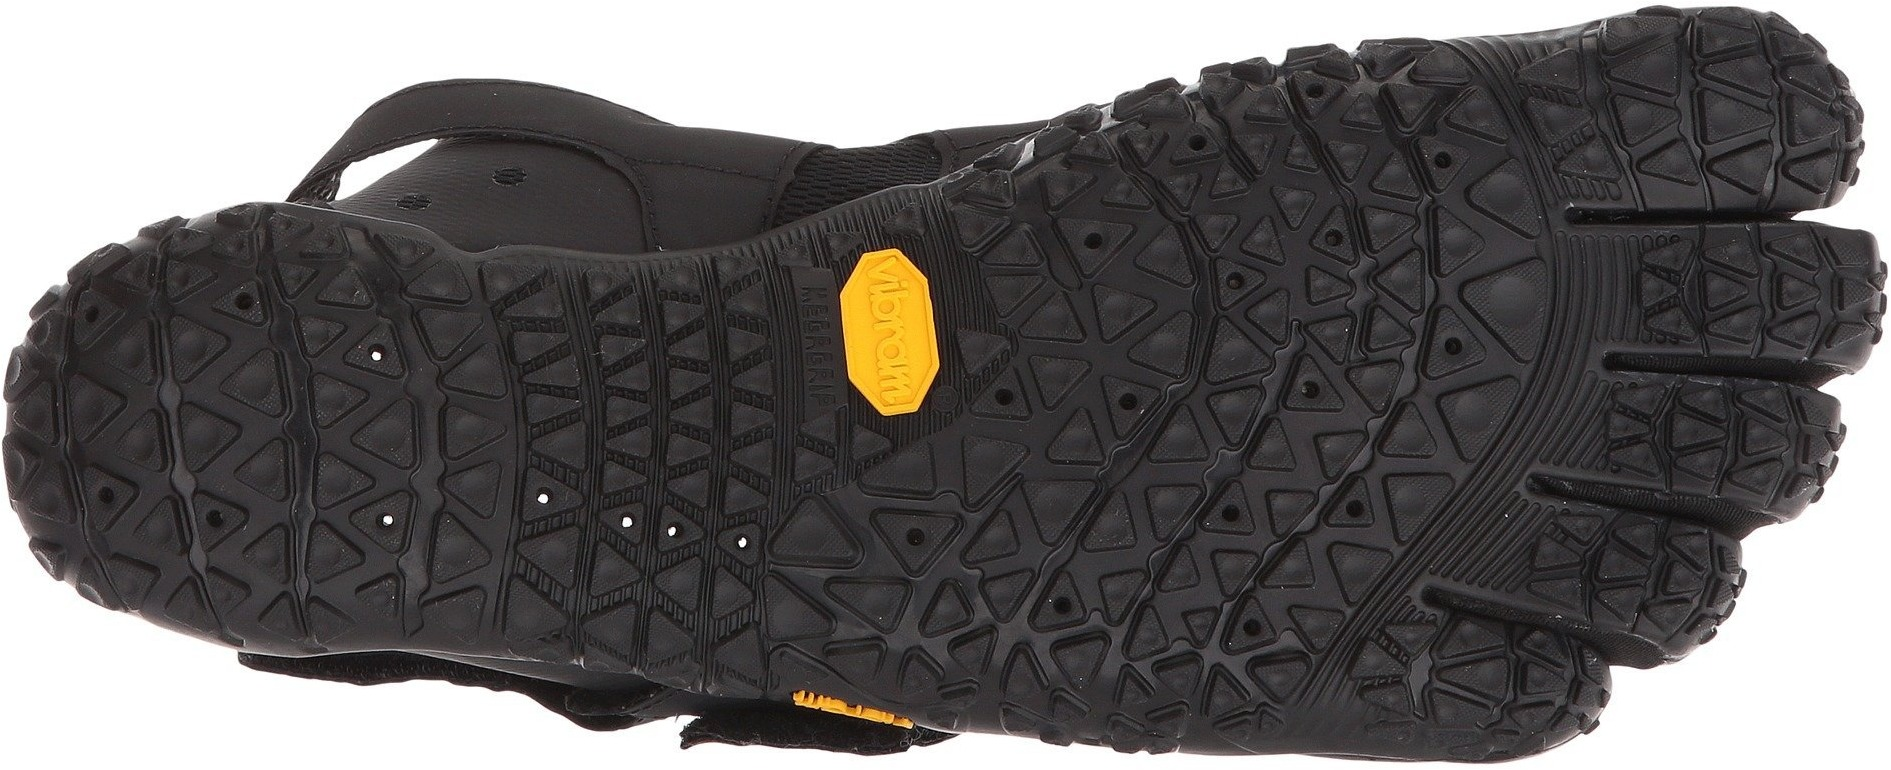circle: (109, 410, 279, 562), (1315, 445, 1448, 556), (338, 466, 429, 577), (1423, 290, 1503, 390), (335, 315, 429, 390), (1411, 134, 1486, 198), (1211, 247, 1271, 315), (1069, 218, 1123, 266), (1103, 381, 1152, 420)
line: (1501, 74, 1621, 215), (1315, 445, 1448, 556)
text: (802, 272, 936, 404)
triangle: (1350, 57, 1679, 364), (1040, 431, 1336, 714), (1014, 153, 1315, 424), (41, 323, 320, 578), (771, 419, 1024, 684), (523, 285, 748, 506), (340, 332, 507, 511), (109, 410, 279, 562), (1700, 215, 1848, 385), (1691, 37, 1850, 189), (1561, 511, 1696, 654), (1501, 74, 1621, 215), (1315, 445, 1448, 556), (338, 466, 429, 577), (1423, 290, 1503, 390), (335, 315, 429, 390), (1411, 134, 1486, 198), (1211, 247, 1271, 315)
